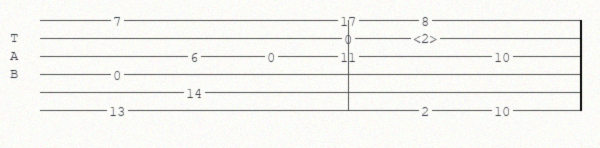0: (113, 68, 125, 81), (267, 50, 279, 63), (344, 32, 356, 45)
10: (494, 50, 514, 63), (494, 104, 514, 117)
11: (340, 50, 360, 63)
13: (109, 104, 129, 117)
14: (186, 86, 206, 99)
17: (340, 14, 360, 27)
2: (421, 104, 433, 117)
6: (190, 50, 202, 63)
7: (113, 14, 125, 27)
8: (421, 14, 433, 27)
harmonic: (413, 31, 441, 45)
